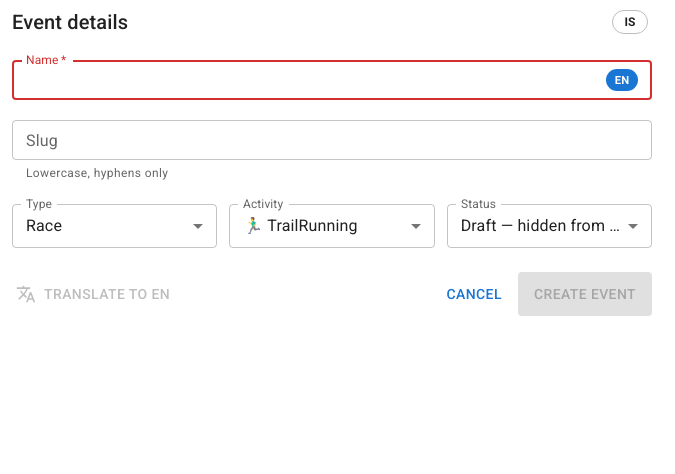
Test: EventDetailsStep — Type/Activity/Status Selects are reachable via getByLabelText (#977) › changes Status via the Select reachable by its label
Step 1. Press the mouse on the dropdown named "Status" → (543, 226), box [461, 216, 626, 235]
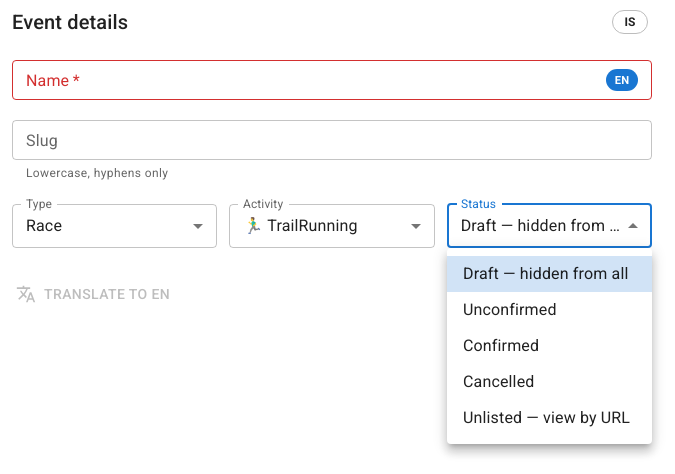
Step 2. Click the option "Confirmed" → (501, 346), box [463, 336, 539, 355]
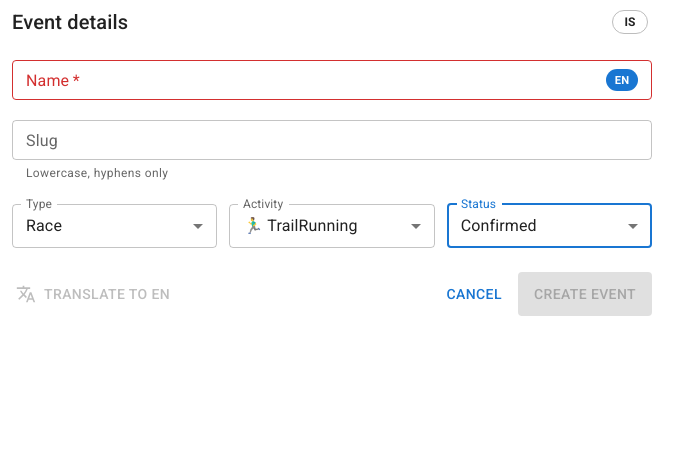
Result: the dropdown named "Status" reads "Confirmed" at [461, 216, 537, 235]
